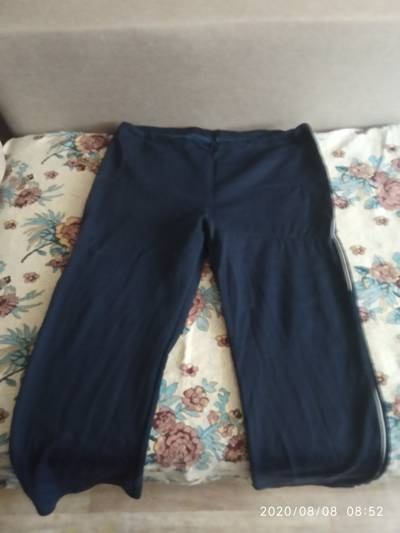Pants: (17, 89, 398, 503)
